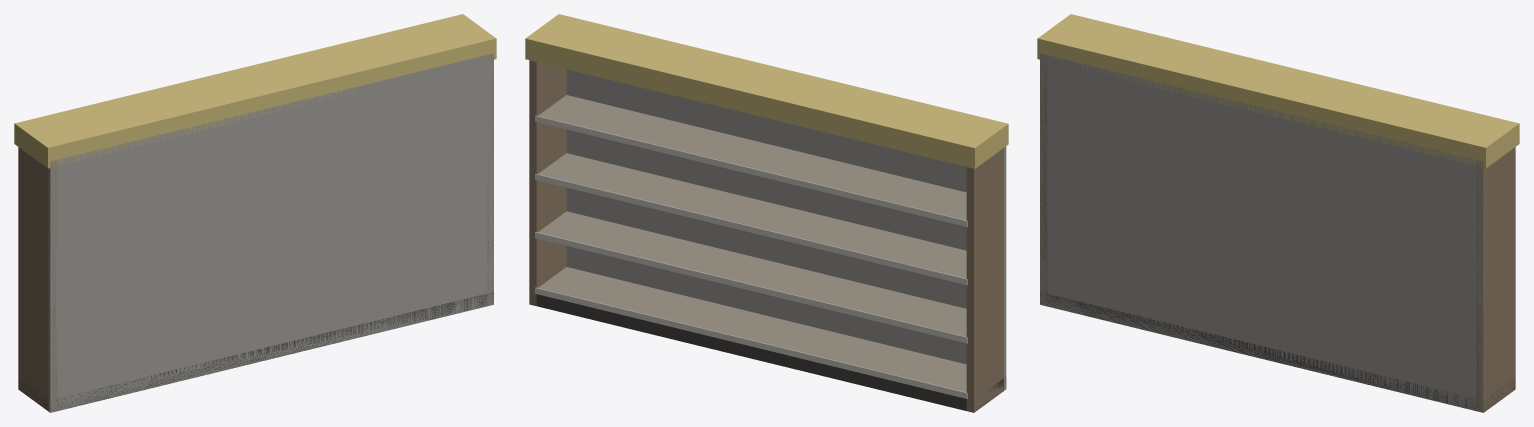
Rendered from mall_wall_shelf.glb.
3 views of the same model, side by side, from view 1: azimuth 30°, elevation 25°; view 2: azimuth 150°, elevation 25°; view 3: azimuth 330°, elevation 25° (orthographic).
Parts seen in each view (by area): view 1: mall.wall_shelf; view 2: mall.wall_shelf; view 3: mall.wall_shelf.
Part boxes in pixels (<box>): mall.wall_shelf: <box>14,14,496,412</box>; mall.wall_shelf: <box>525,14,1008,412</box>; mall.wall_shelf: <box>1037,14,1519,412</box>.
Bounding box in the file's own units: 3.64 × 2.06 × 0.47.
